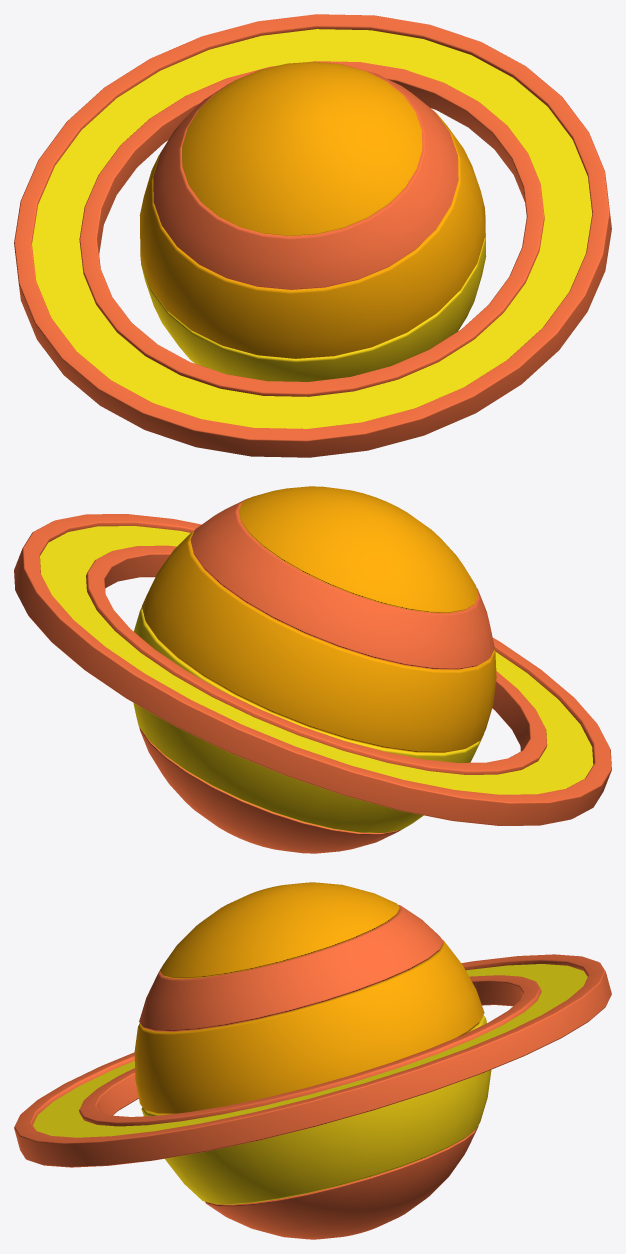
Rendered from Public_17_Planet_1.glb.
3 views of the same model, one above another, from view 1: azimuth 30°, elevation 25°; view 2: azimuth 150°, elevation 25°; view 3: azimuth 270°, elevation 25° (orthographic). The views are drawn at different scales.
Visible parts, largest first — view 1: Public_17_Planet_1; view 2: Public_17_Planet_1; view 3: Public_17_Planet_1.
Boxes of the visible parts, x1,y1,x2,y2 form: Public_17_Planet_1: [14, 14, 611, 457]; Public_17_Planet_1: [14, 486, 611, 853]; Public_17_Planet_1: [14, 882, 611, 1239].
Bounding box in the file's own units: 10.81 × 6.45 × 10.82.
1 material, 1 textured.
